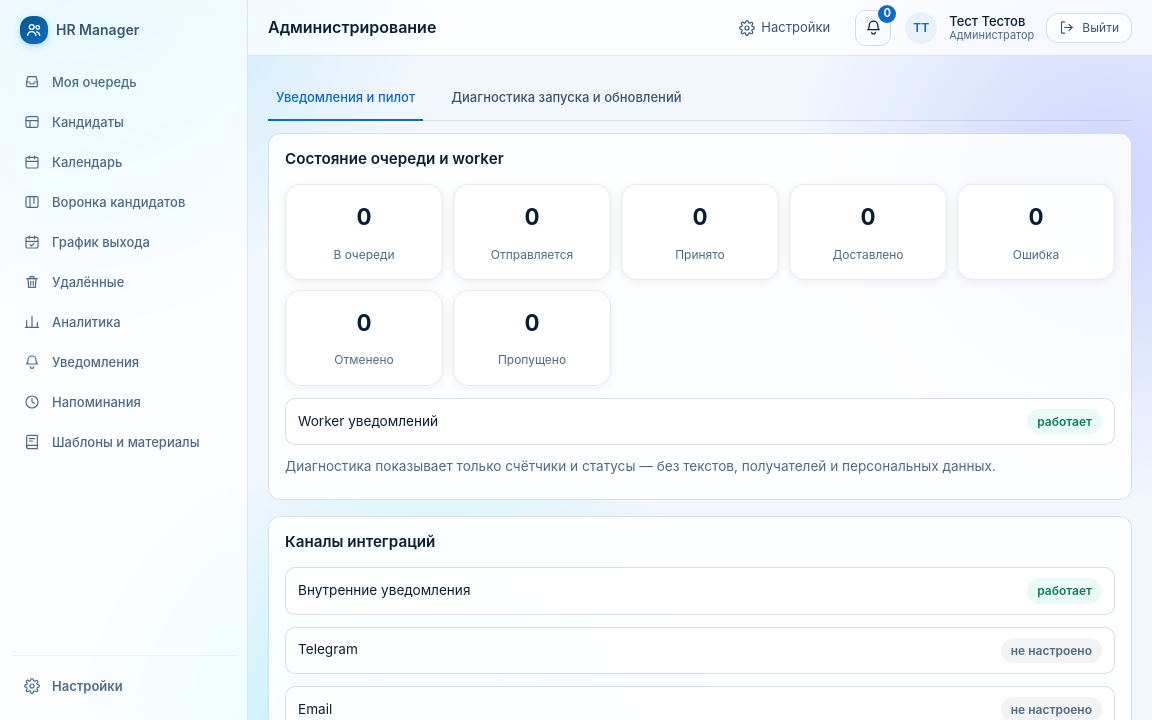
Test: раздел «Настройки» › показывает администратору все восемь групп
The width and height of the screenshot is (1152, 720).
Step 1. Click the 2nd button "Настройки" → click(124, 686), box [12,668,235,704]
(page scrolled)
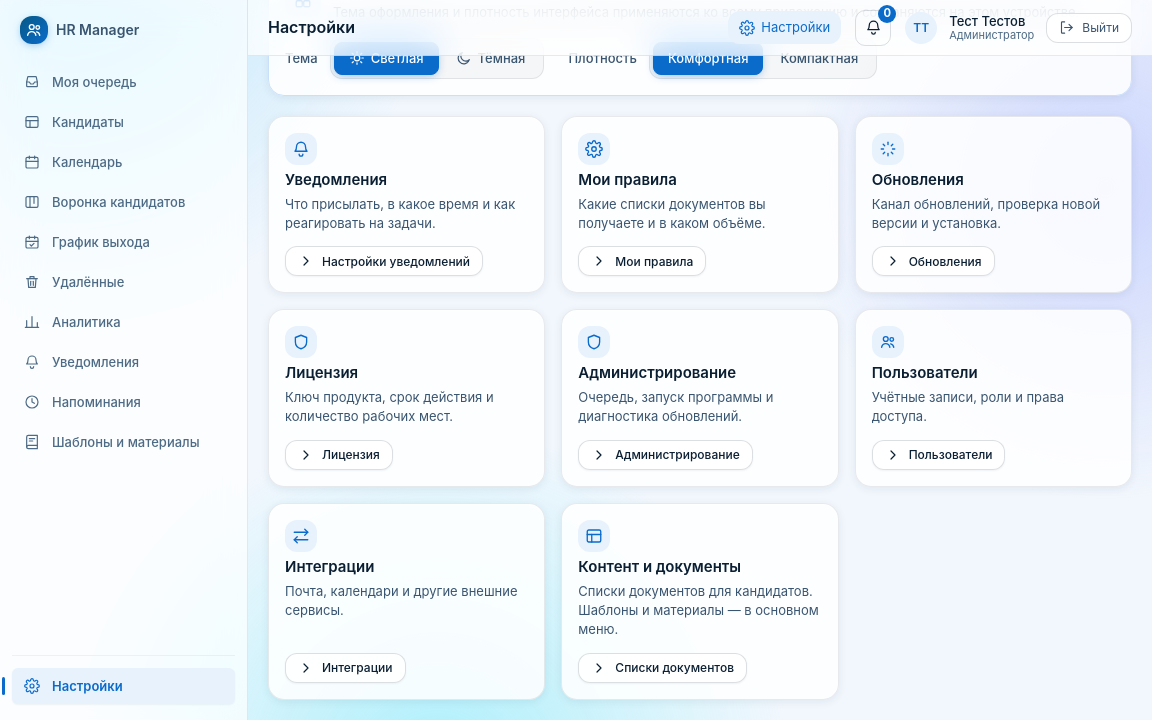
Expected: the number of list items is 8
Expected: the heading "Мои правила" is shown, [578,170,677,189]
Expected: the heading "Обновления" is shown, [872,170,964,189]
